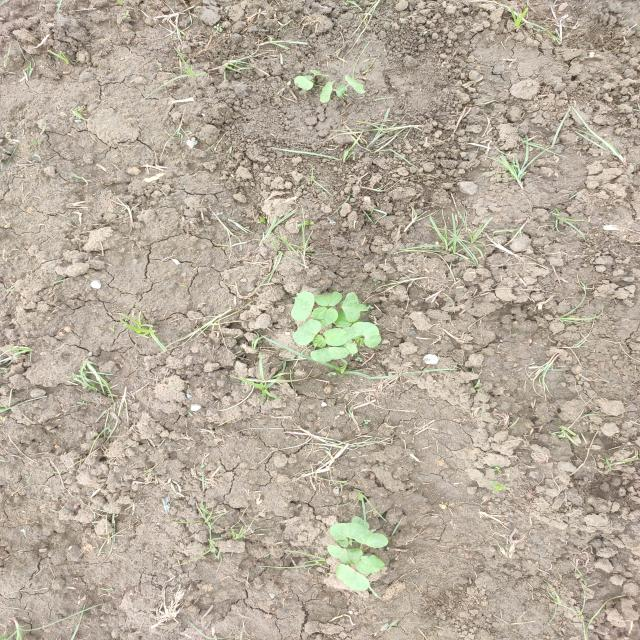seedling_s4: (335, 563, 370, 591), (341, 292, 368, 322), (294, 319, 322, 345), (291, 291, 314, 321), (355, 529, 389, 548), (330, 523, 365, 540), (310, 347, 349, 362), (360, 322, 382, 348), (324, 328, 354, 346), (356, 555, 385, 573), (312, 307, 338, 327), (328, 545, 352, 565), (345, 75, 366, 94), (314, 292, 342, 306), (343, 322, 364, 339), (320, 81, 335, 103), (334, 311, 352, 327), (294, 75, 313, 90), (347, 548, 363, 564), (342, 339, 358, 354), (351, 516, 369, 529), (310, 69, 329, 77), (336, 88, 347, 98)
